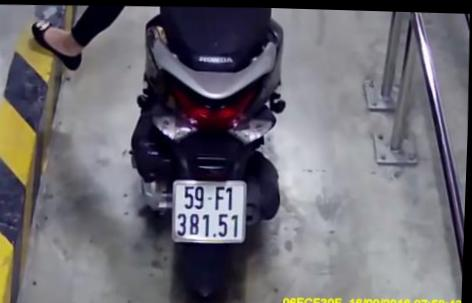LP: (171, 177, 249, 242)
